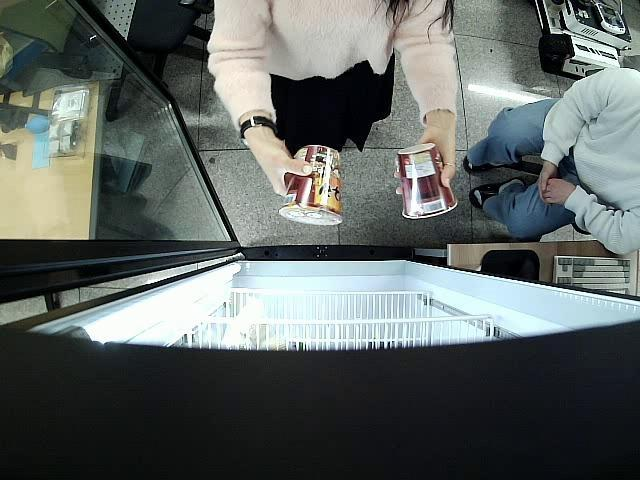06_nuguri_S: (278, 146, 344, 225), (399, 142, 457, 219)
